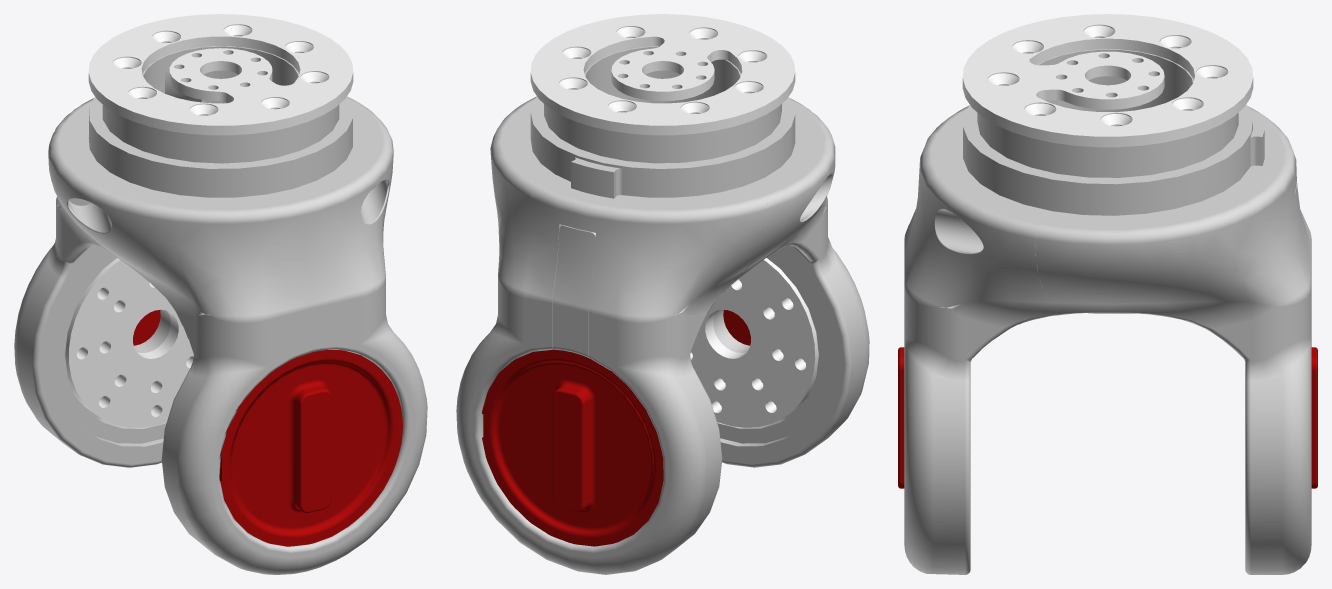
The model's file is Sciurus17_l2.gltf.
3 views of the same model, side by side, from view 1: azimuth 30°, elevation 25°; view 2: azimuth 150°, elevation 25°; view 3: azimuth 270°, elevation 25° (orthographic). The views are drawn at different scales.
Visible parts, largest first — view 1: ABSフレームF_C (1); view 2: ABSフレームF_C (1); view 3: ABSフレームF_C (1).
Boxes of the visible parts, left/top/right/bottom form: ABSフレームF_C (1): left=14, top=14, right=427, bottom=574; ABSフレームF_C (1): left=456, top=14, right=869, bottom=574; ABSフレームF_C (1): left=898, top=14, right=1317, bottom=574.
Bounding box in the file's own units: 0.0654 × 0.092 × 0.0722.
